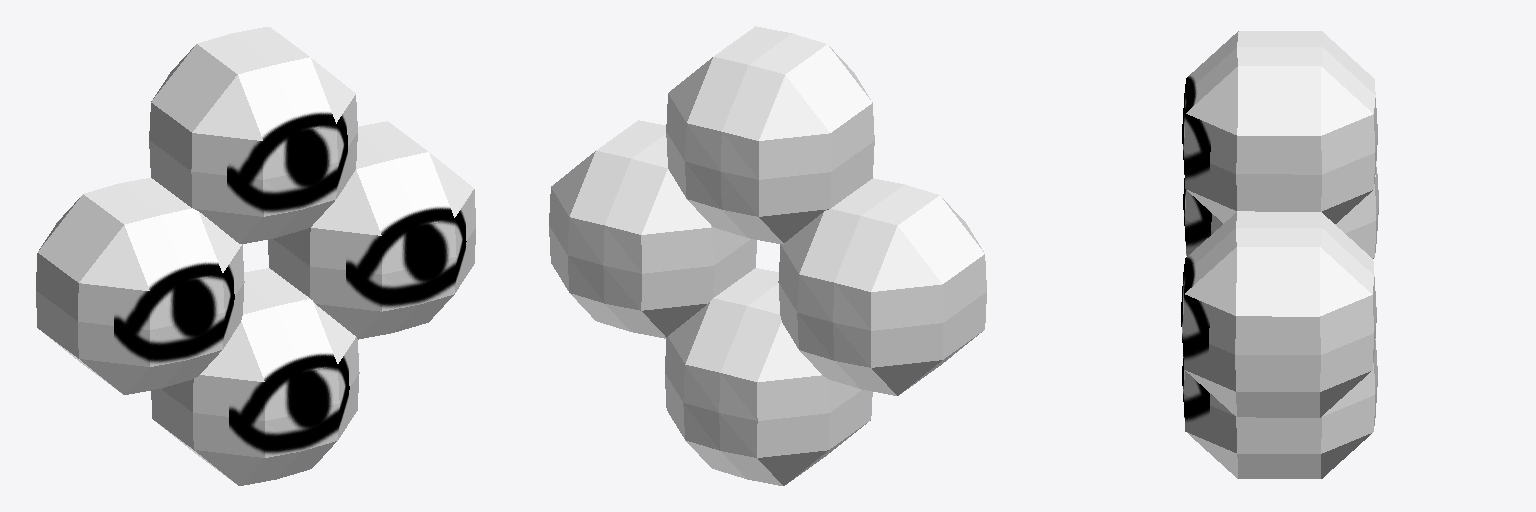
3 renders of one model, left to right at view 1: azimuth 30°, elevation 25°; view 2: azimuth 150°, elevation 25°; view 3: azimuth 270°, elevation 25°, orthographic.
Parts seen in each view (by area): view 1: 立方体.003; view 2: 立方体.003; view 3: 立方体.003.
Boxes of the visible parts, x1,y1,x2,y2 form: 立方体.003: [36, 27, 475, 485]; 立方体.003: [549, 26, 986, 485]; 立方体.003: [1181, 31, 1378, 478].
Bounding box in the file's own units: 2.21 × 2.2 × 0.9555.
1 materials, 1 textured.